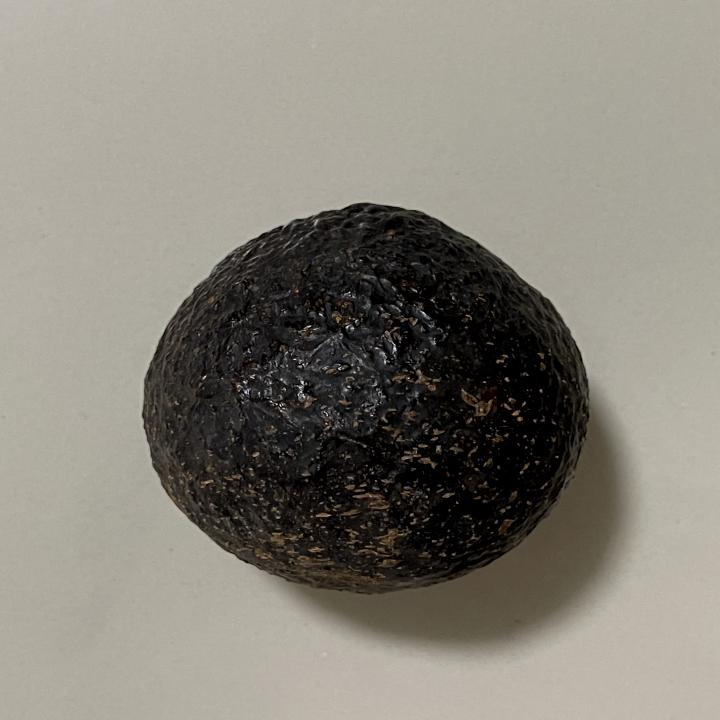Level2: (133, 195, 601, 600)
